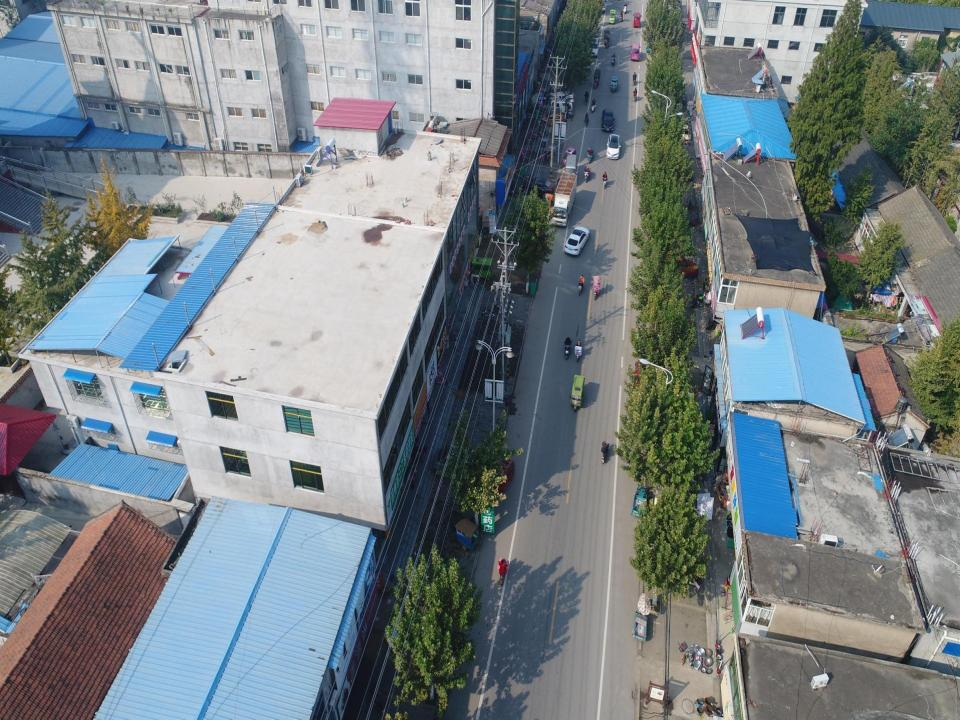car: (662, 251, 697, 283), (563, 225, 590, 257), (519, 177, 554, 198), (540, 110, 565, 128), (606, 133, 622, 160), (599, 108, 615, 132), (587, 35, 599, 59), (628, 41, 641, 61), (599, 0, 607, 15)
truck: (551, 170, 578, 227)
van: (432, 443, 488, 481), (550, 98, 573, 118), (550, 90, 574, 109), (563, 154, 578, 184)
